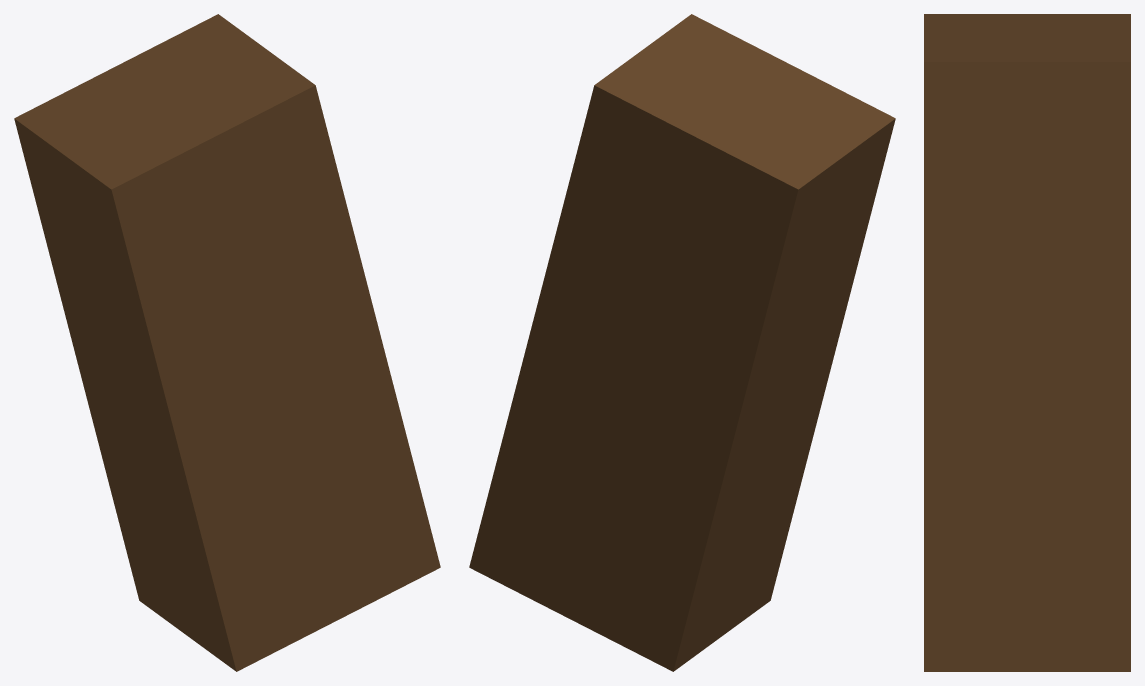
Rendered from pipe shotgun wooden grip.glb.
3 renders of one model, left to right at view 1: azimuth 30°, elevation 25°; view 2: azimuth 150°, elevation 25°; view 3: azimuth 270°, elevation 25°, orthographic. The views are drawn at different scales.
Visible parts, largest first — view 1: wooden grip; view 2: wooden grip; view 3: wooden grip.
Part boxes in pixels (bbox=[...]): wooden grip: bbox=[14, 14, 440, 671]; wooden grip: bbox=[469, 14, 895, 671]; wooden grip: bbox=[924, 14, 1130, 671].
Size of the model in its own units: 0.0781 by 0.1286 by 0.04.
